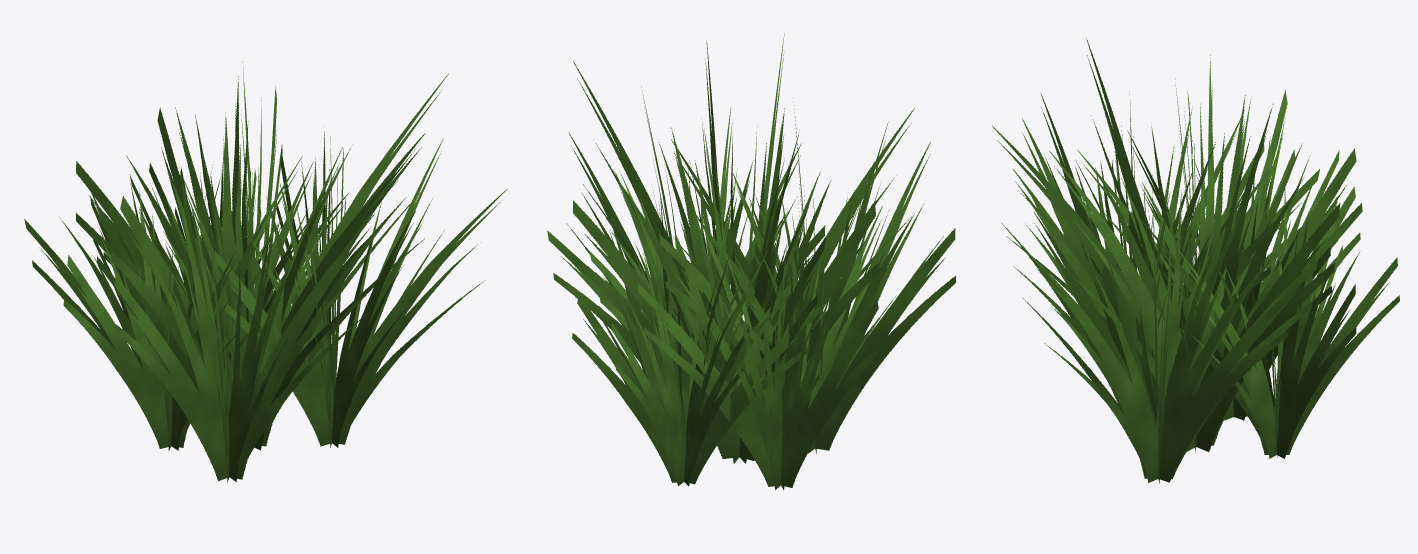
The model's file is SM_Grassland_MeadowGrass_A.glb.
3 renders of one model, left to right at view 1: azimuth 30°, elevation 25°; view 2: azimuth 150°, elevation 25°; view 3: azimuth 270°, elevation 25°, orthographic. The views are drawn at different scales.
Parts seen in each view (by area): view 1: SM_Grassland_MeadowGrass_A; view 2: SM_Grassland_MeadowGrass_A; view 3: SM_Grassland_MeadowGrass_A.
Boxes of the visible parts, <box> form: SM_Grassland_MeadowGrass_A: <box>24,61,507,482</box>; SM_Grassland_MeadowGrass_A: <box>547,33,955,490</box>; SM_Grassland_MeadowGrass_A: <box>992,38,1399,483</box>.
Bounding box in the file's own units: 0.9041 × 0.85 × 0.8829.
1 material, 1 textured.
